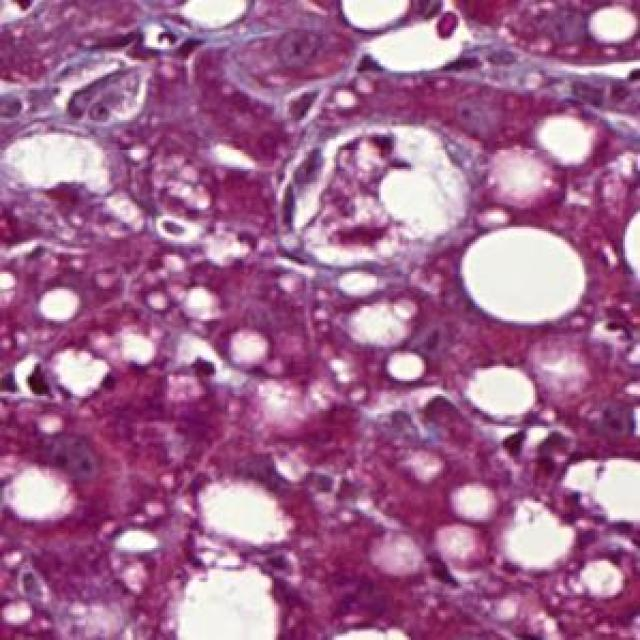ballooning: (280, 122, 471, 272)
